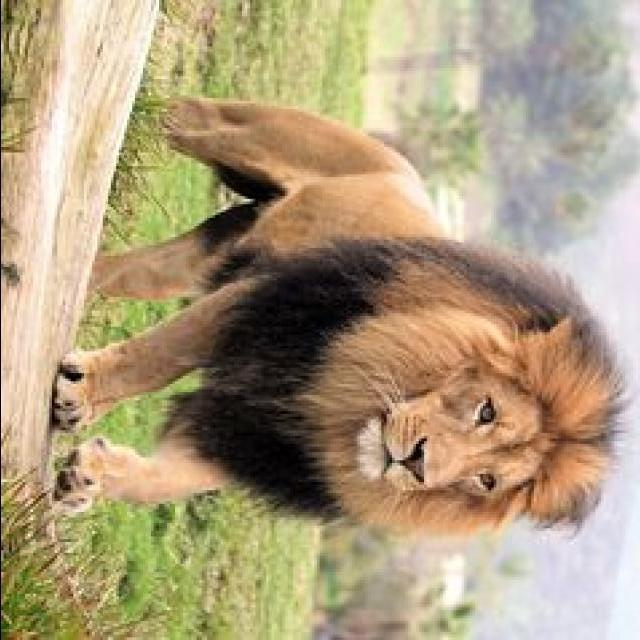lions: (42, 37, 640, 608)
